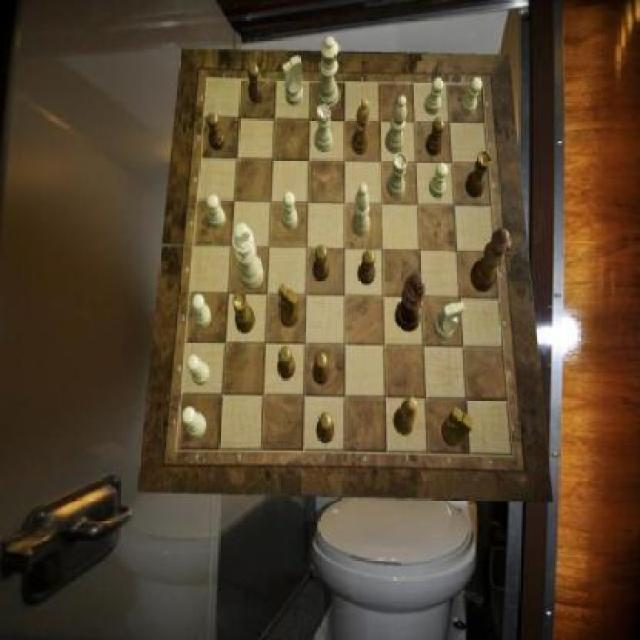bishop: (352, 97, 370, 155), (394, 397, 418, 435)
black-bishop: (396, 274, 426, 332)
black-king: (442, 408, 474, 448), (278, 283, 300, 329)
black-knight: (426, 117, 446, 155), (207, 112, 226, 151), (248, 64, 264, 104), (314, 244, 331, 280), (359, 249, 376, 284), (317, 412, 335, 445), (279, 346, 296, 380), (314, 352, 331, 386)
black-pawn: (471, 228, 512, 292)
black-queen: (464, 151, 490, 198), (234, 291, 257, 333)
black-rook: (385, 95, 407, 154), (352, 183, 370, 238)
white-bishop: (232, 223, 265, 289)
white-king: (434, 302, 464, 340), (282, 56, 302, 106)
white-knight: (460, 77, 482, 115), (183, 408, 208, 440), (424, 79, 444, 116), (429, 163, 449, 199), (192, 294, 212, 328), (207, 195, 226, 230), (188, 356, 210, 386), (282, 191, 298, 229)
white-pawn: (316, 37, 340, 111)
white-queen: (386, 154, 407, 200), (314, 105, 333, 152)
